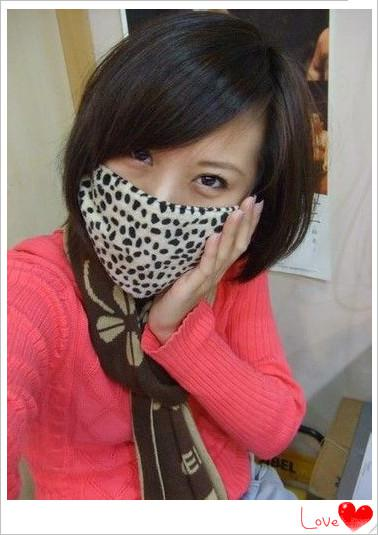OK: (88, 133, 252, 293)
